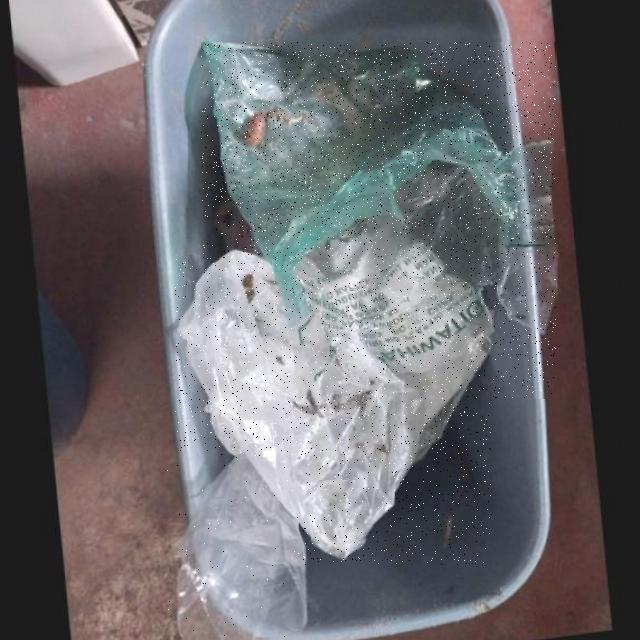plastic: (202, 42, 556, 399), (176, 260, 491, 565), (167, 457, 302, 639)
